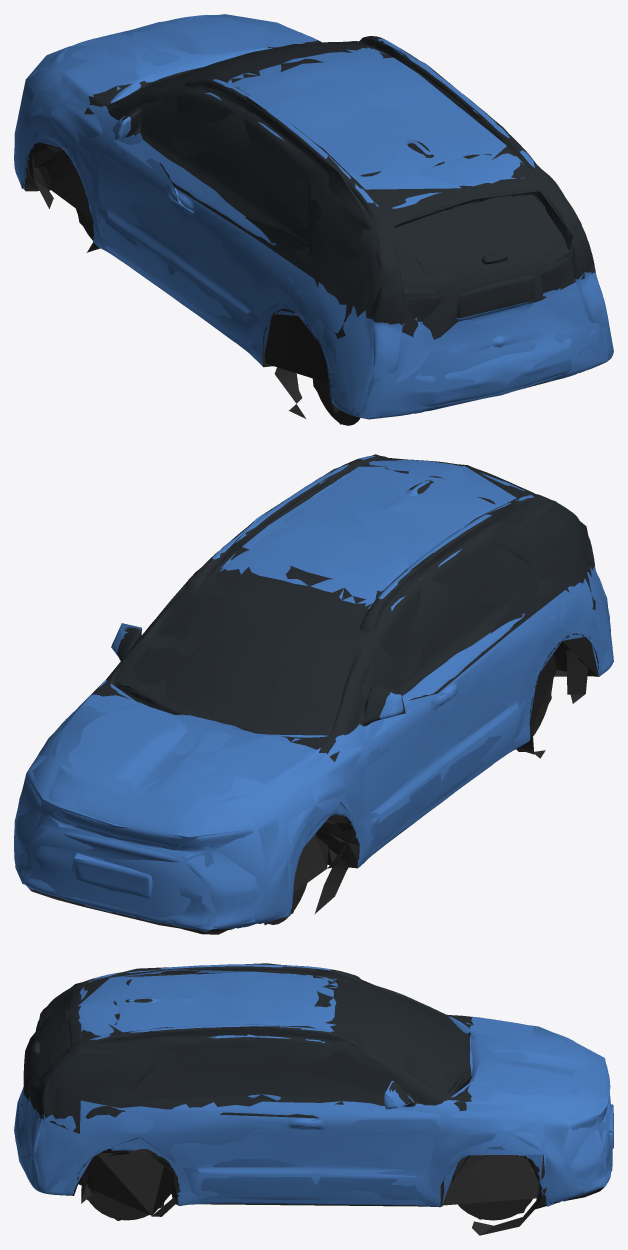
The model's file is kia-niro.glb.
3 renders of one model, top to bottom at view 1: azimuth 30°, elevation 25°; view 2: azimuth 150°, elevation 25°; view 3: azimuth 270°, elevation 25°, orthographic. The views are drawn at different scales.
Visible parts, largest first — view 1: body, far; view 2: body, far; view 3: body, far.
Part boxes in pixels (x1,y1,x2,y2): body: (14, 15, 613, 425); far: (14, 14, 613, 424); body: (14, 456, 613, 934); far: (14, 454, 613, 929); body: (15, 964, 613, 1235); far: (14, 963, 613, 1220).
Bounding box in the file's own units: 1.91 × 1.61 × 4.51.
